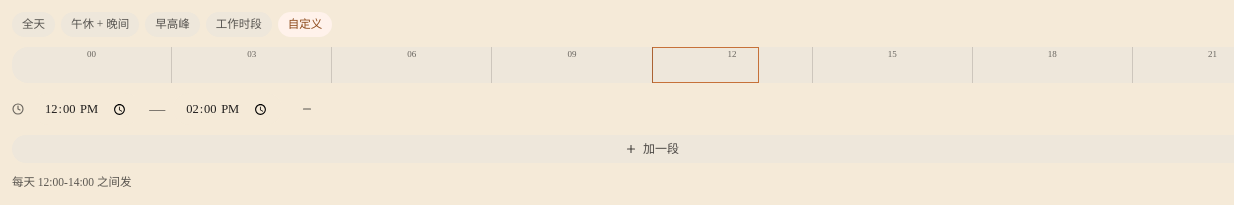
WindowEditor（P14.B4：预设药丸是主路径，自定义段默认收起） › 展开自定义段后改一个钟点，预览文案跟着变
Click the tab with test id "window-preset-custom".
click(305, 25)  # box [278, 12, 332, 37]
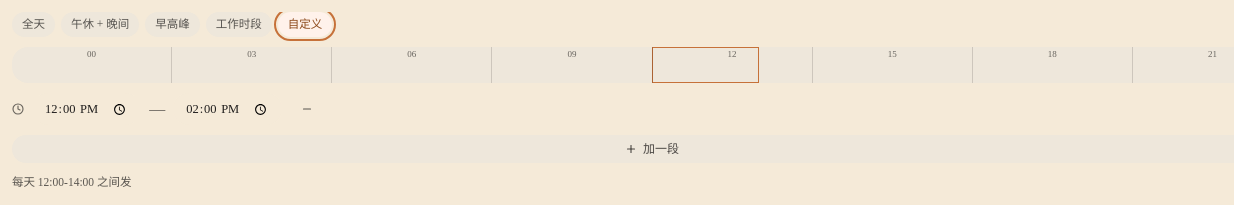
Replace the text in the time field with test id "window-start-0" with "11:30" at (87, 109), box [32, 93, 141, 125]
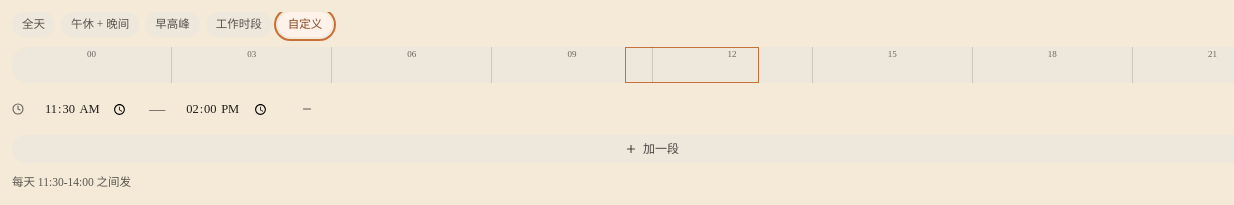
Now the text with test id "window-preview" shows "11:30-14:00", box [12, 176, 131, 188]
